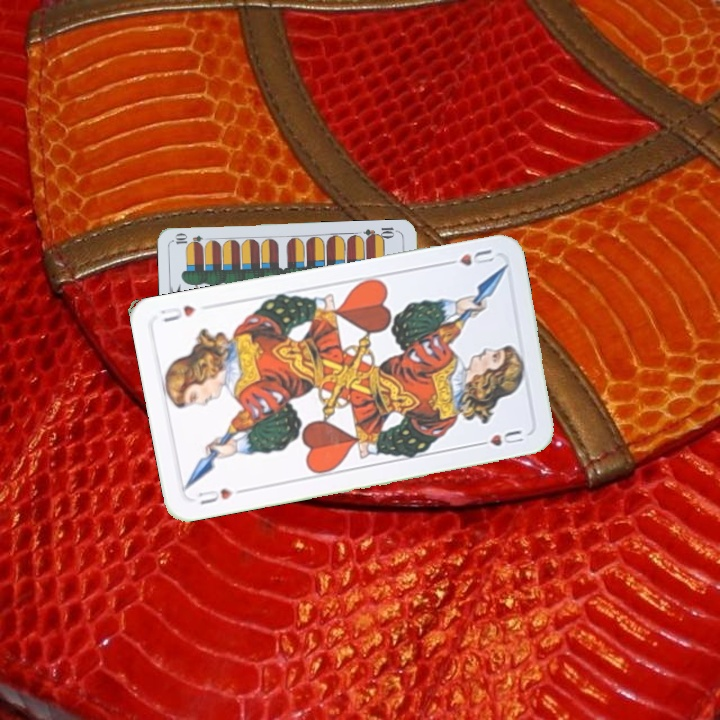E10: (360, 223, 401, 243)
HU: (439, 245, 497, 269), (192, 484, 236, 508)
